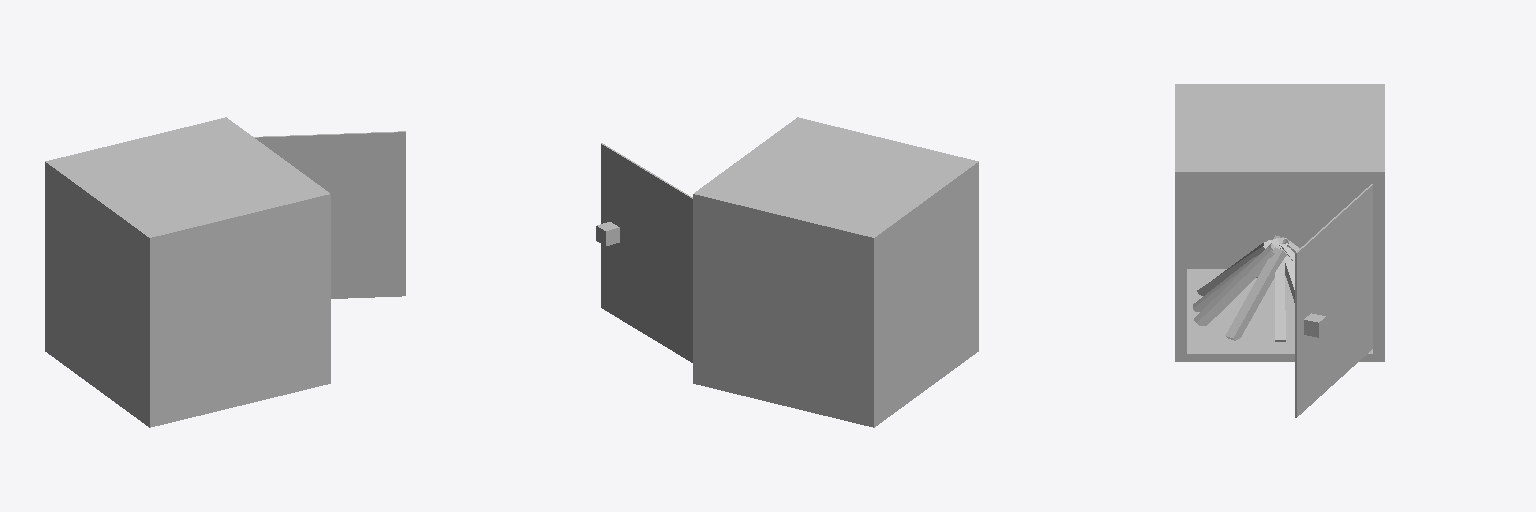
The model's file is cooking_firebox_open.obj.
3 views of the same model, side by side, from view 1: azimuth 30°, elevation 25°; view 2: azimuth 150°, elevation 25°; view 3: azimuth 270°, elevation 25° (orthographic).
Parts seen in each view (by area): view 1: Box_Cube.001, Door_Cube.002; view 2: Box_Cube.001, Door_Cube.002; view 3: Box_Cube.001, Door_Cube.002, Sticks_Cube.001_Cube.002.
Boxes of the visible parts, <box> form: Box_Cube.001: <box>45,117,330,427</box>; Door_Cube.002: <box>254,131,405,298</box>; Box_Cube.001: <box>693,117,978,427</box>; Door_Cube.002: <box>601,143,692,362</box>; Box_Cube.001: <box>1175,84,1384,361</box>; Door_Cube.002: <box>1295,184,1372,417</box>; Sticks_Cube.001_Cube.002: <box>1193,235,1299,341</box>.
Bounding box in the file's own units: 1.75 × 1 × 1.